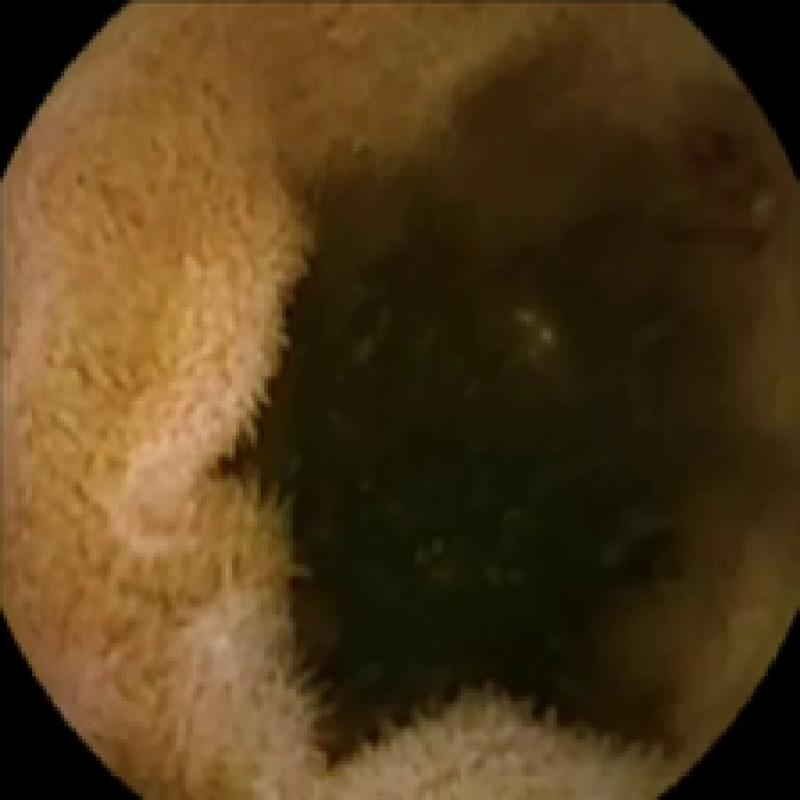bleeding: (518, 136, 768, 264)
